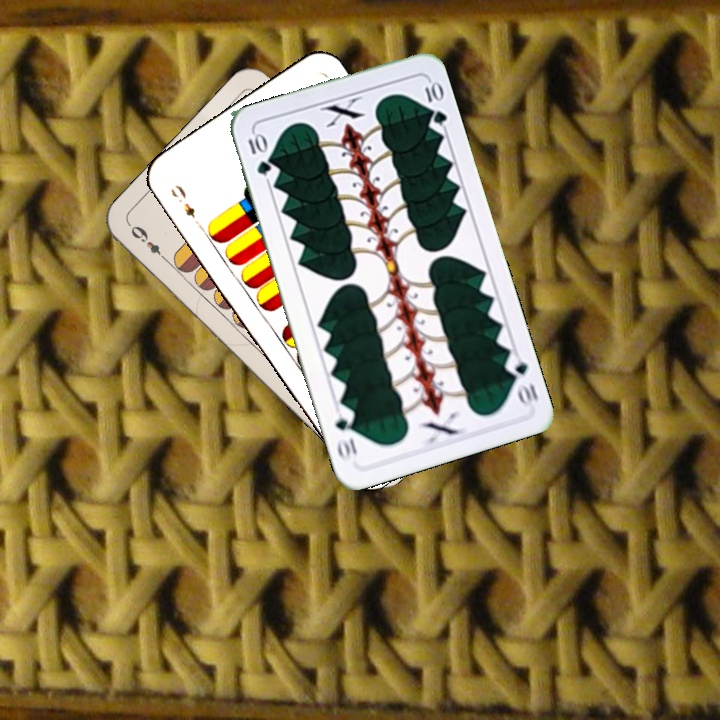E9: (125, 221, 172, 266), (166, 180, 198, 220)
G10: (501, 350, 541, 410), (244, 129, 274, 178)
